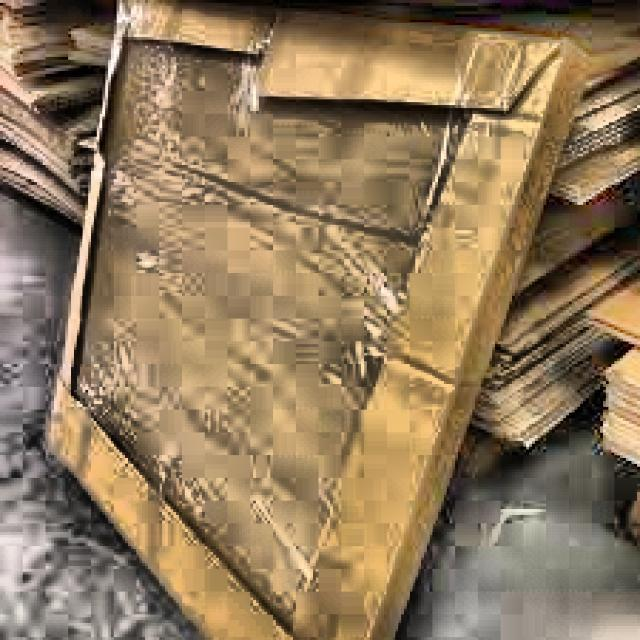cardboard: (42, 0, 594, 637)
